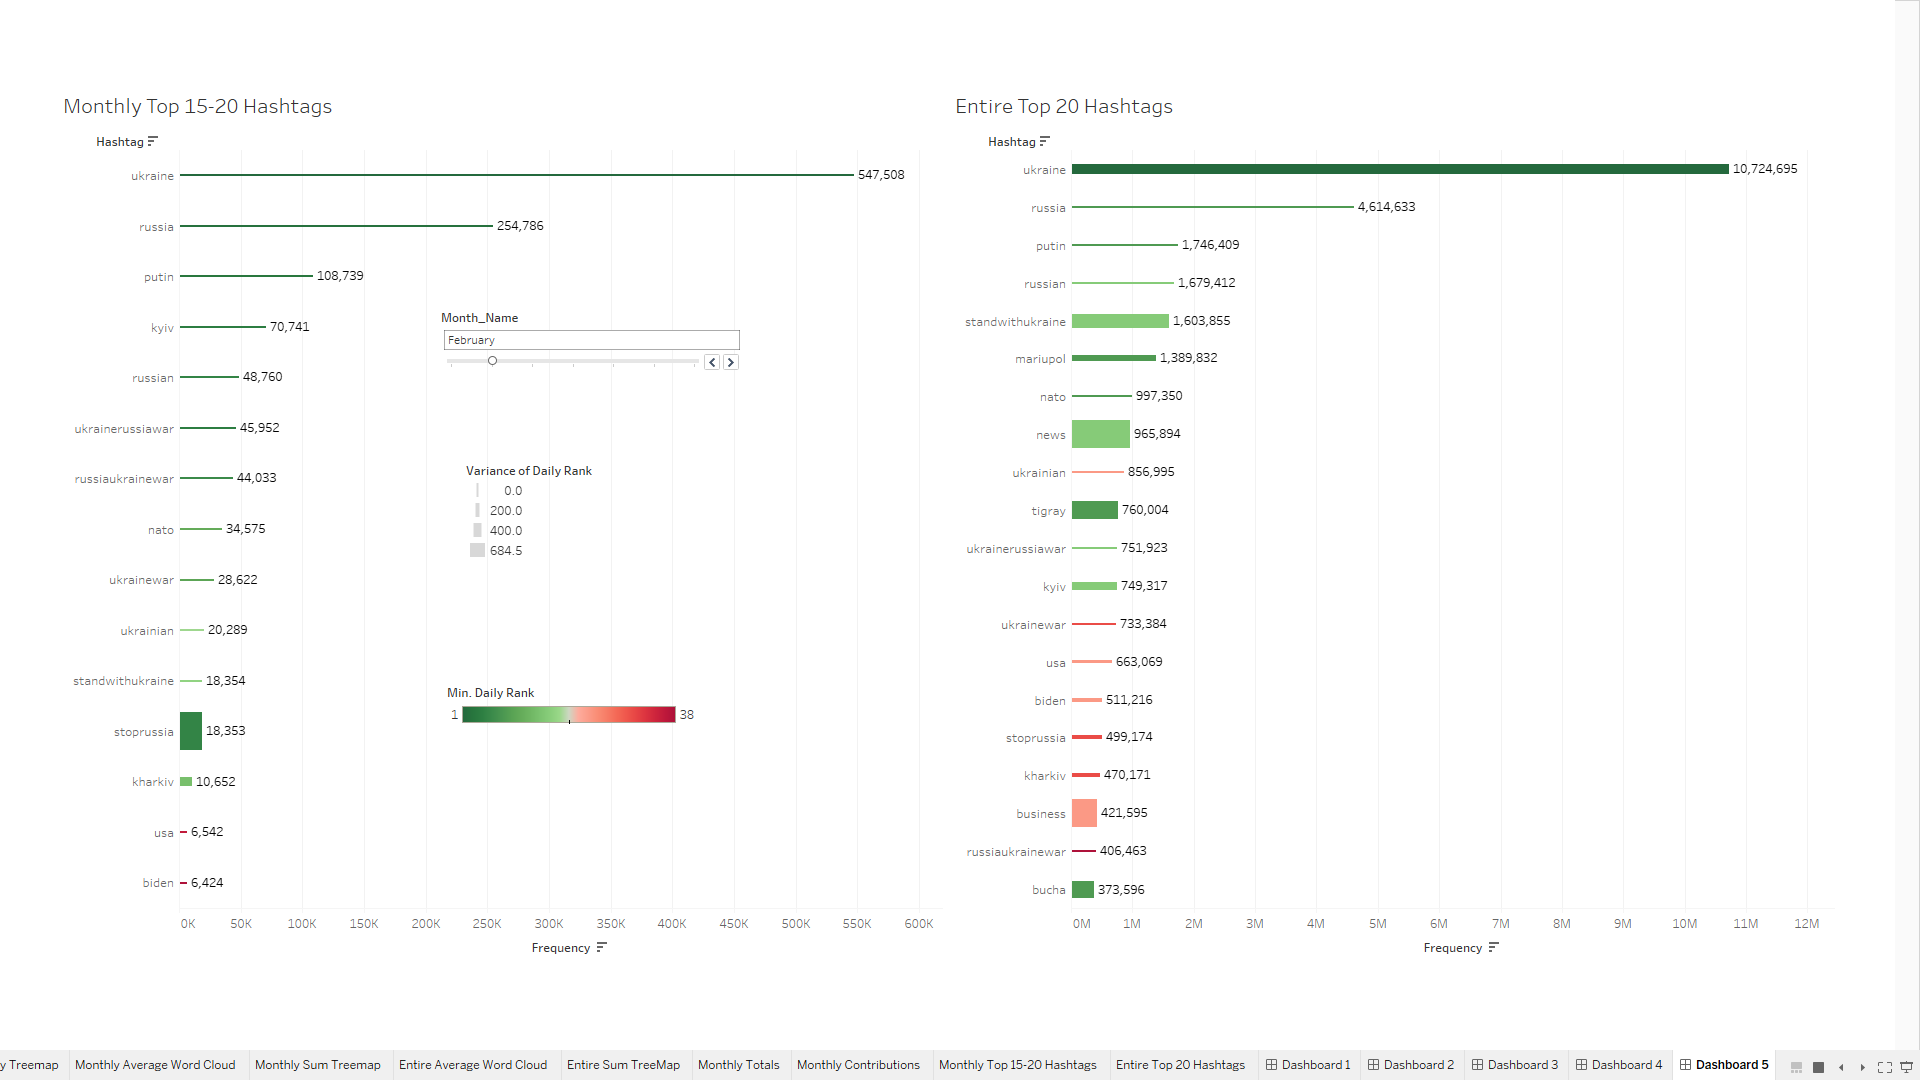

This screenshot's page, from the dashboard's own definition file:
{"tool":"tableau","page":{"name":"Dashboard 5","canvas":[1800,900],"ordinal":4},"visuals":[{"type":"worksheet","title":"Monthly Top 15-20 Hashtags","mark":"Automatic","rows":["hashtag"],"cols":["frequency"],"box":[8,8,892,884]},{"type":"worksheet","title":"Entire Top 20 Hashtags","mark":"Automatic","rows":["hashtag"],"cols":["frequency"],"box":[900,8,892,884]},{"type":"filter","title":"Monthly Top 15-20 Hashtags","param":"[federated.1b2v2m21slpcl81457r2p0nbsyjk].[none:Calculation_1442559315822010370:n","box":[394.2,234,302.4,84.4]},{"type":"legend","title":"Monthly Top 15-20 Hashtags","param":"[federated.1b2v2m21slpcl81457r2p0nbsyjk].[var:daily_rank:qk]","box":[419.4,387,252,110.2]},{"type":"legend","title":"Monthly Top 15-20 Hashtags","param":"[federated.1b2v2m21slpcl81457r2p0nbsyjk].[min:daily_rank:qk]","box":[399.6,608.6,252,85.5]}]}

Visuals, with their boxes on the page's 1800x900 design canvas (x1, y1, x2, y2). These are canvas units, not pixel positions in the 1920x1080 screenshot, which may show the page scaled, cropped or inside an application window:
"Monthly Top 15-20 Hashtags" worksheet: {"left": 8, "top": 8, "right": 900, "bottom": 892}
"Entire Top 20 Hashtags" worksheet: {"left": 900, "top": 8, "right": 1792, "bottom": 892}
"Monthly Top 15-20 Hashtags" filter: {"left": 394, "top": 234, "right": 697, "bottom": 318}
"Monthly Top 15-20 Hashtags" legend: {"left": 419, "top": 387, "right": 671, "bottom": 497}
"Monthly Top 15-20 Hashtags" legend: {"left": 400, "top": 609, "right": 652, "bottom": 694}
